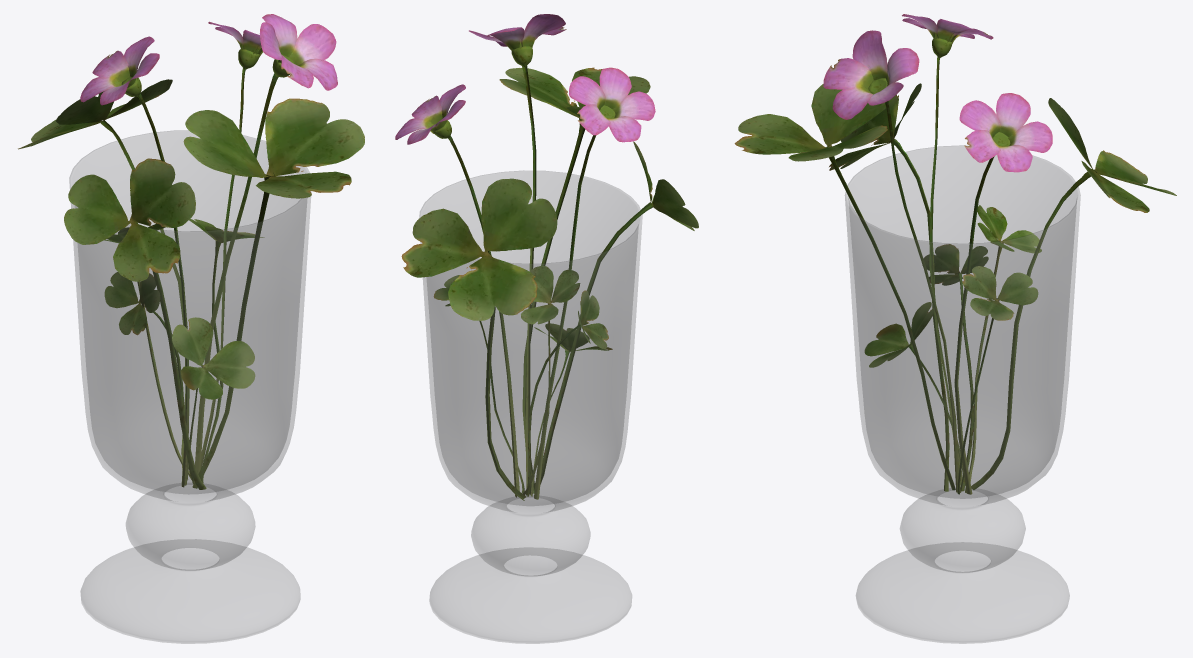
Rendered from vase.glb.
The picture shows the model from 3 angles, left to right: view 1: azimuth 30°, elevation 25°; view 2: azimuth 150°, elevation 25°; view 3: azimuth 270°, elevation 25°; orthographic projection. The views are drawn at different scales.
Visible parts, largest first — view 1: GlassAlpha, Flowers1; view 2: GlassAlpha, Flowers1; view 3: GlassAlpha, Flowers1.
Part boxes in pixels (box(x1,y1,x2,y2)): GlassAlpha: box(69, 130, 311, 643); Flowers1: box(18, 14, 364, 489); GlassAlpha: box(419, 170, 642, 643); Flowers1: box(395, 14, 698, 500); GlassAlpha: box(845, 145, 1080, 643); Flowers1: box(734, 14, 1176, 494).
Size of the model in its own units: 0.0973 by 0.2032 by 0.1425.
2 materials, 1 textured.
